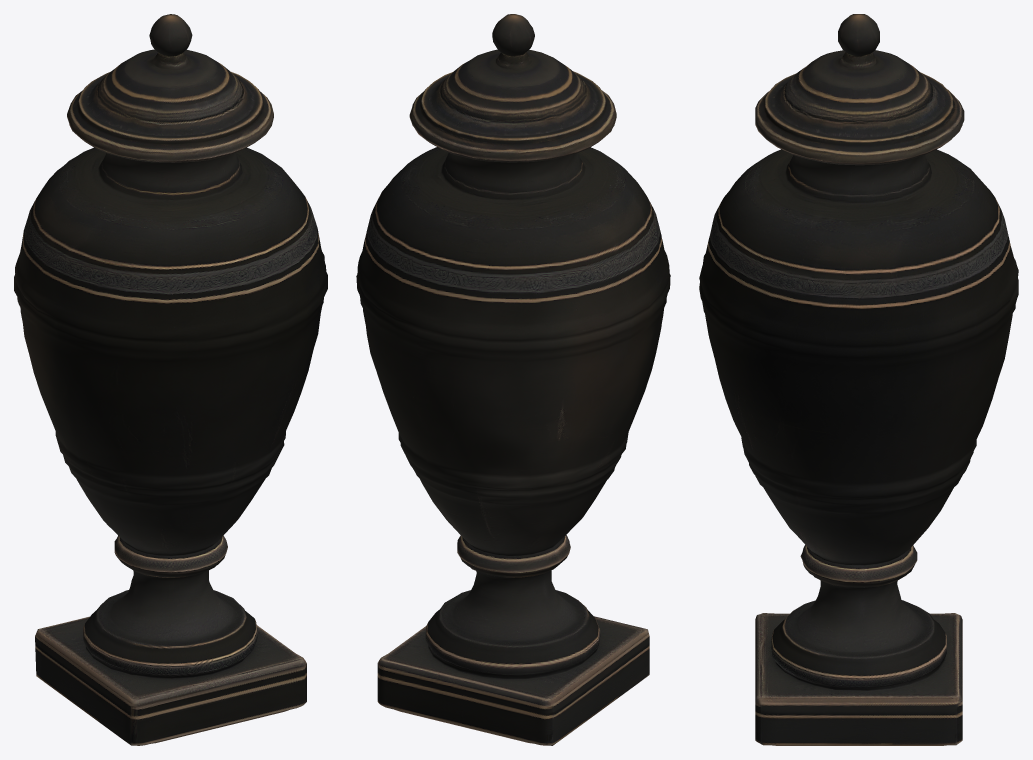
Rendered from relic_funerary_urn.glb.
The picture shows the model from 3 angles, left to right: view 1: azimuth 30°, elevation 25°; view 2: azimuth 150°, elevation 25°; view 3: azimuth 270°, elevation 25°; orthographic projection.
Size of the model in its own units: 0.8063 by 1.91 by 0.8023.
1 material, 1 textured.
